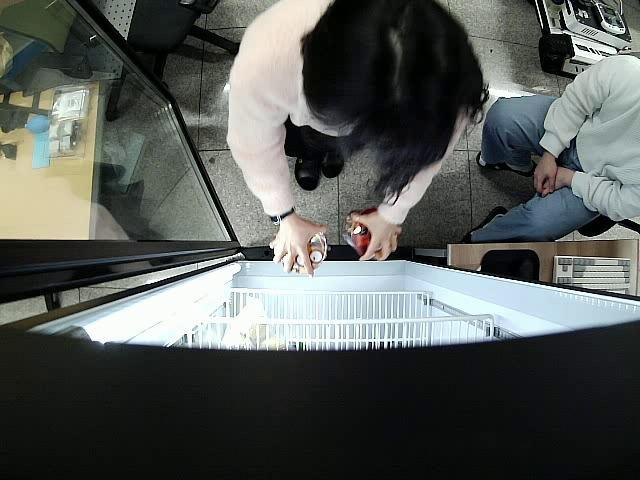05_nuguri_L: (342, 208, 399, 254), (279, 232, 325, 272)
